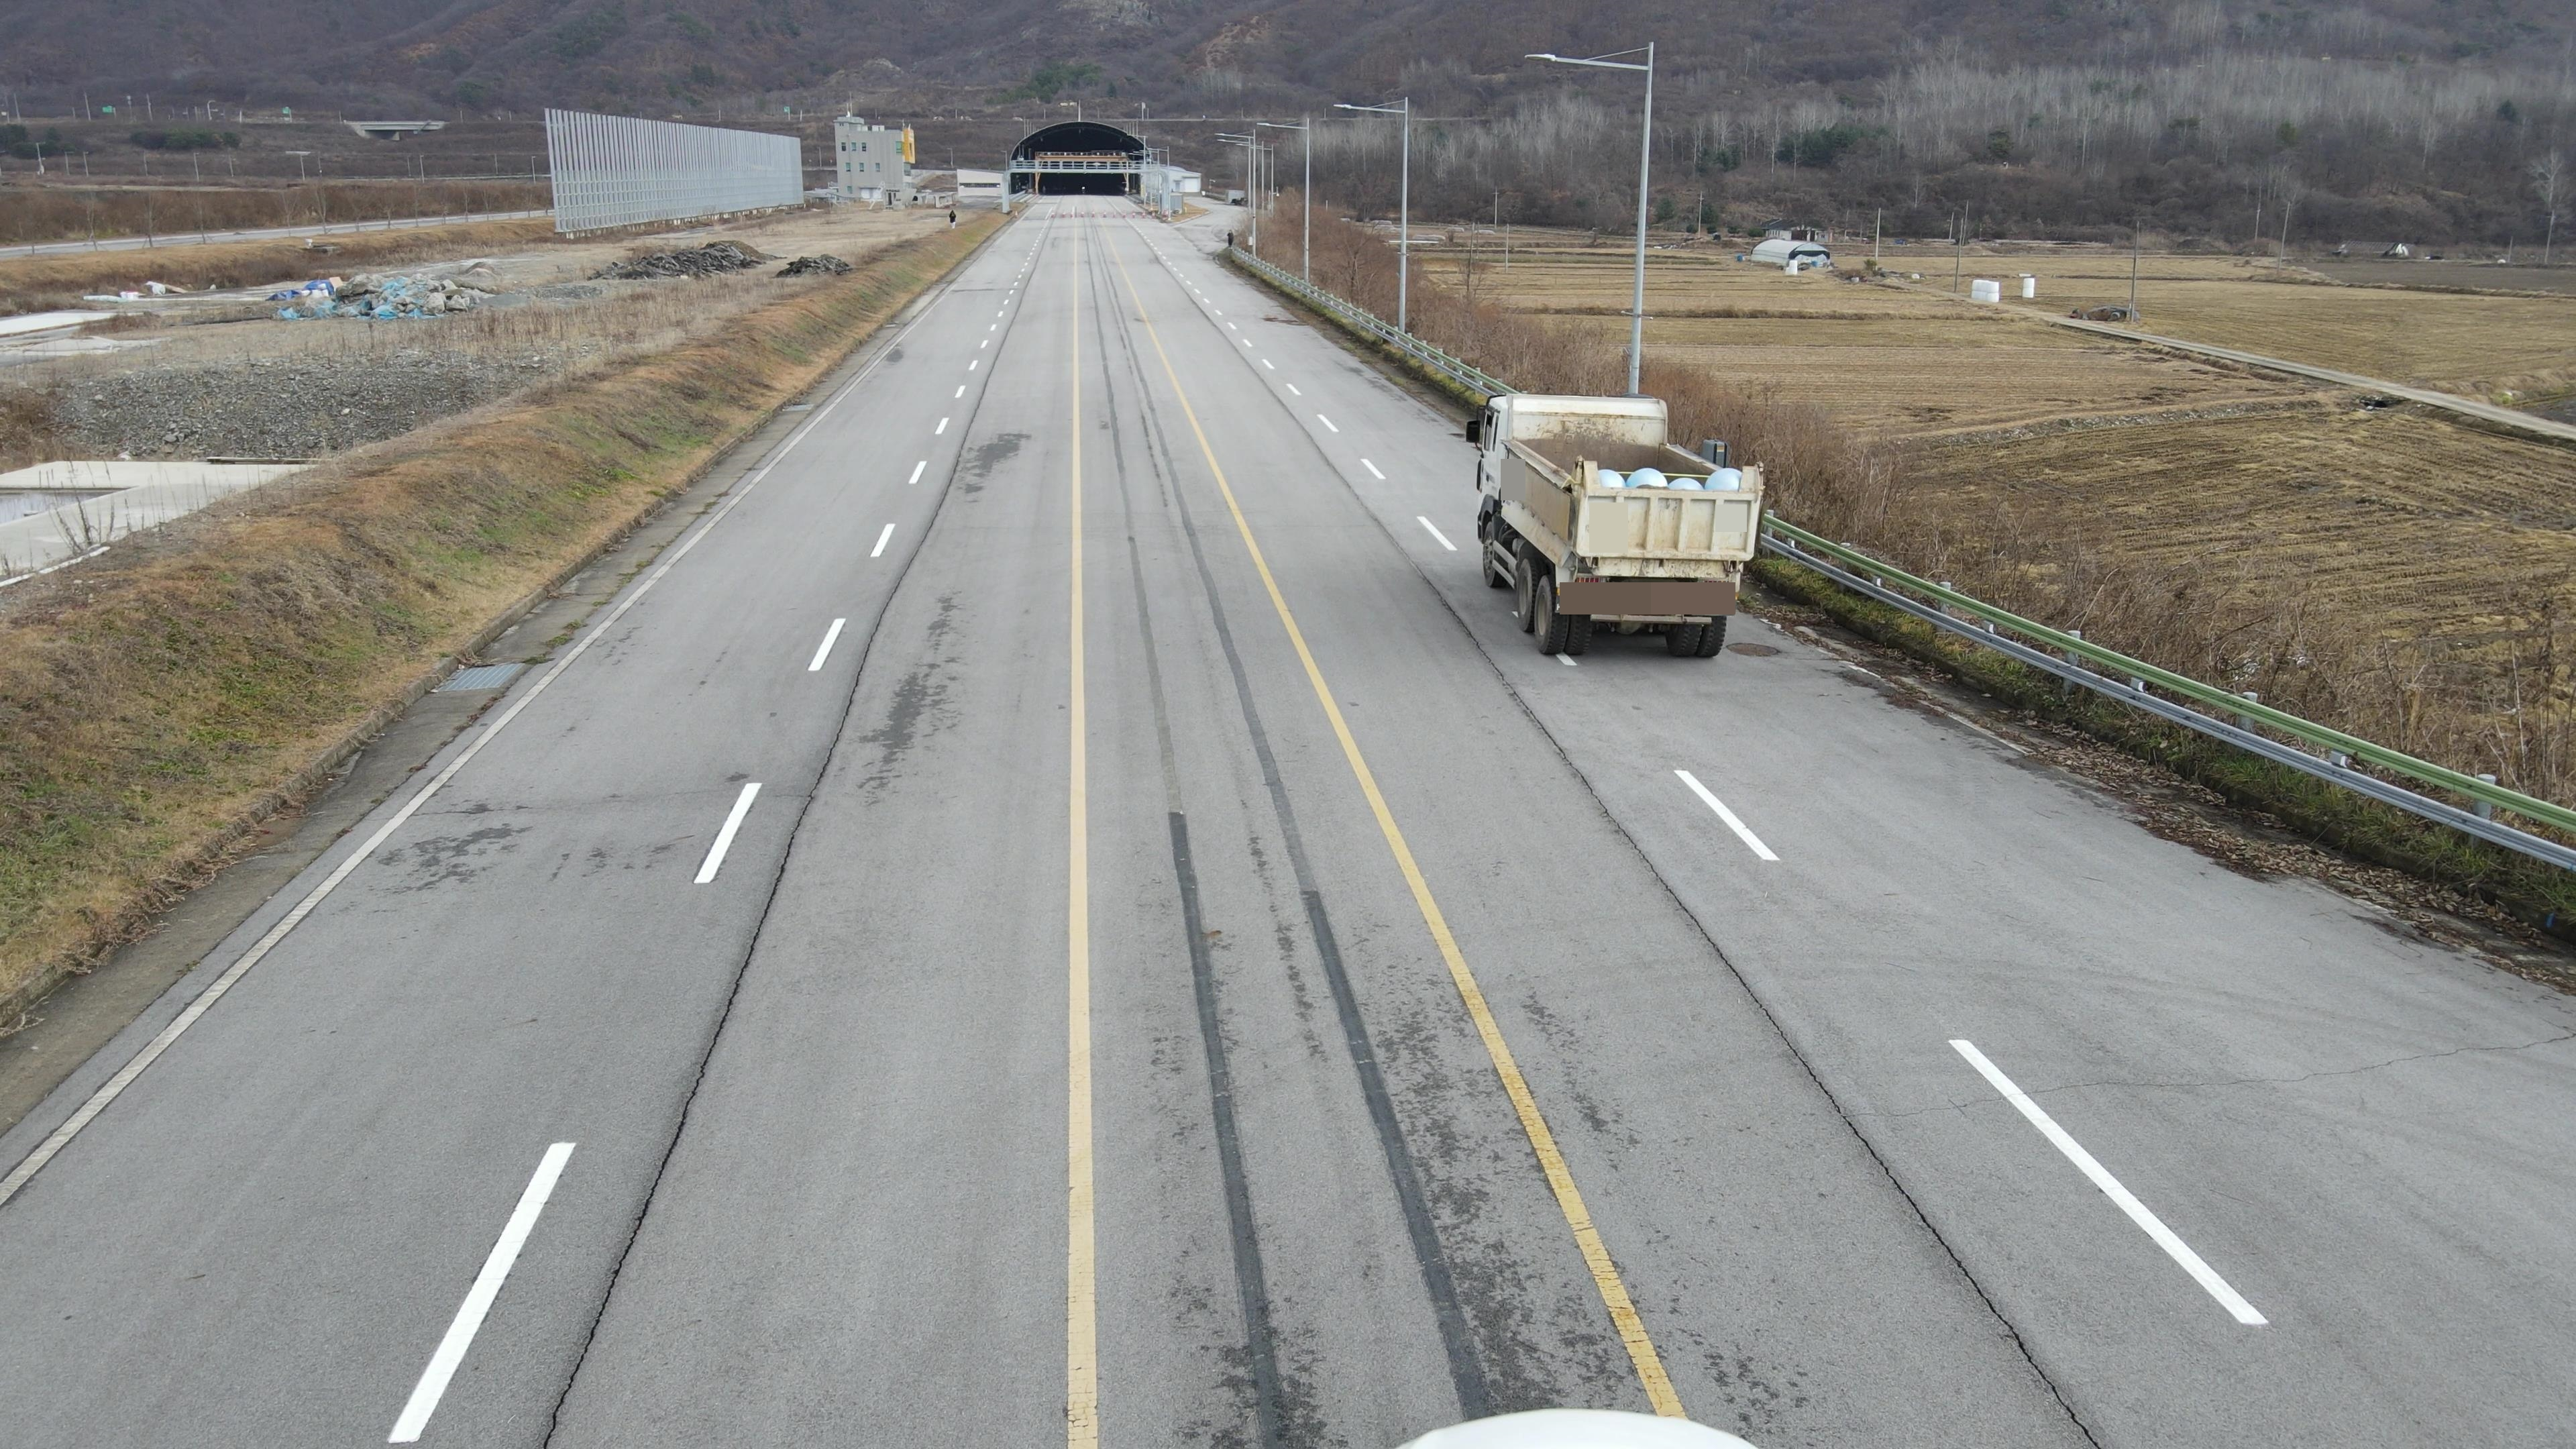불법차량: (1464, 391, 1775, 661)
